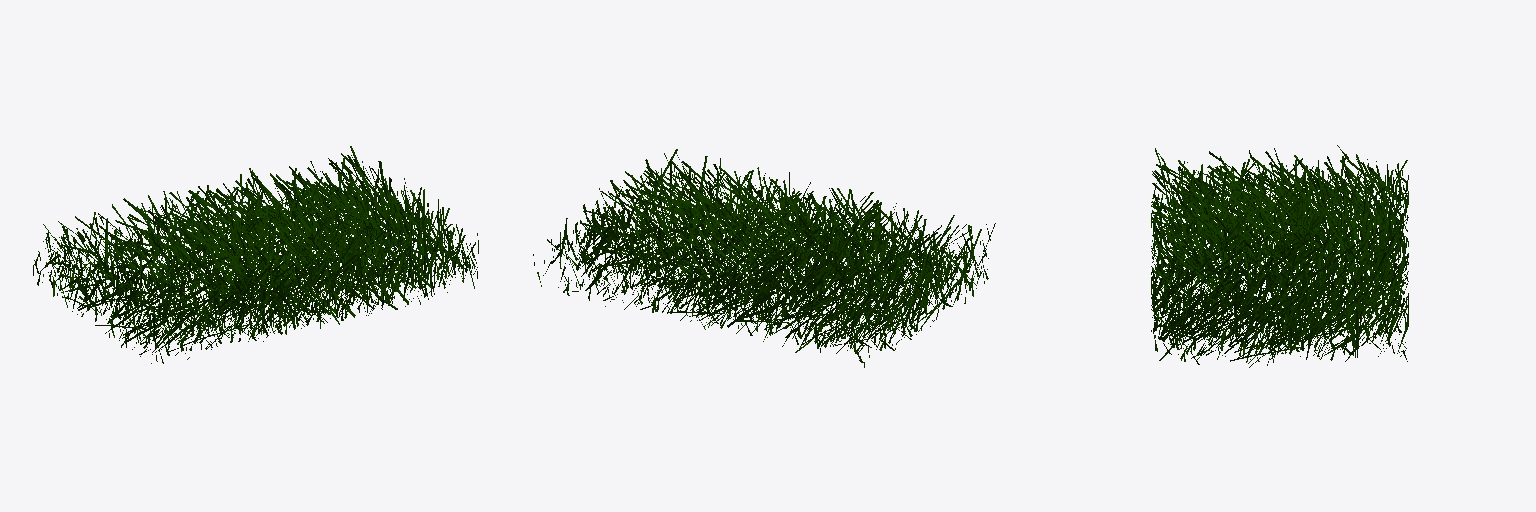
File: grass.obj
The picture shows the model from 3 angles: view 1: azimuth 30°, elevation 25°; view 2: azimuth 150°, elevation 25°; view 3: azimuth 270°, elevation 25°; orthographic projection.
Visible parts, largest first — view 1: weed14.weed15.weed16.weed17.weed18.weed19.weed20.weed21_weed14; view 2: weed14.weed15.weed16.weed17.weed18.weed19.weed20.weed21_weed14; view 3: weed14.weed15.weed16.weed17.weed18.weed19.weed20.weed21_weed14.
Boxes of the visible parts, x1=… form: weed14.weed15.weed16.weed17.weed18.weed19.weed20.weed21_weed14: x1=33, y1=146, x2=478, y2=363; weed14.weed15.weed16.weed17.weed18.weed19.weed20.weed21_weed14: x1=533, y1=149, x2=995, y2=367; weed14.weed15.weed16.weed17.weed18.weed19.weed20.weed21_weed14: x1=1151, y1=145, x2=1408, y2=367.
Size of the model in its own units: 10.67 by 1.65 by 6.9.